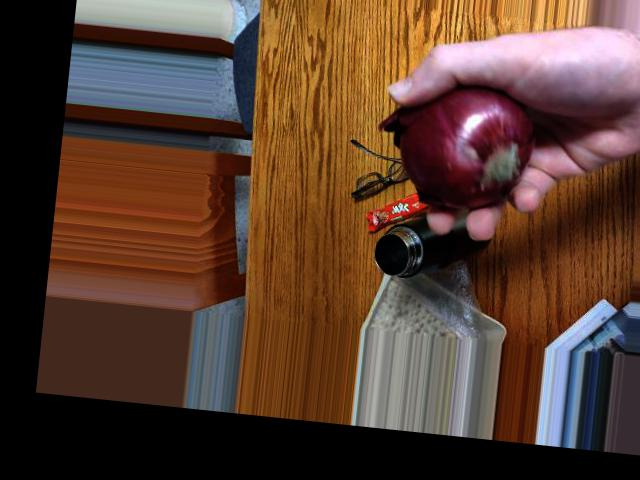onion: (398, 82, 530, 211)
